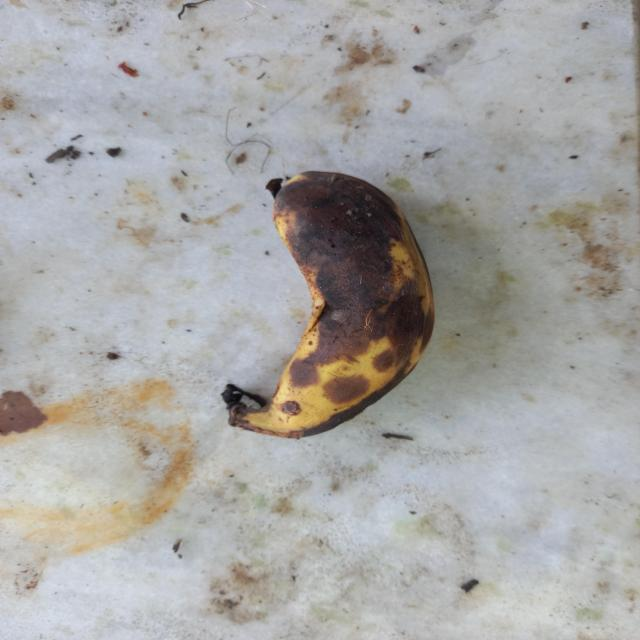Banana: (220, 170, 436, 440)
